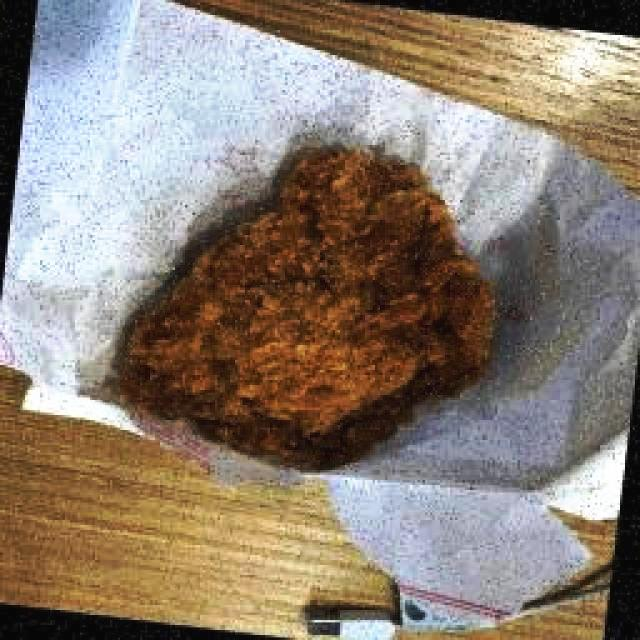fried_chicken: (122, 144, 497, 471)
